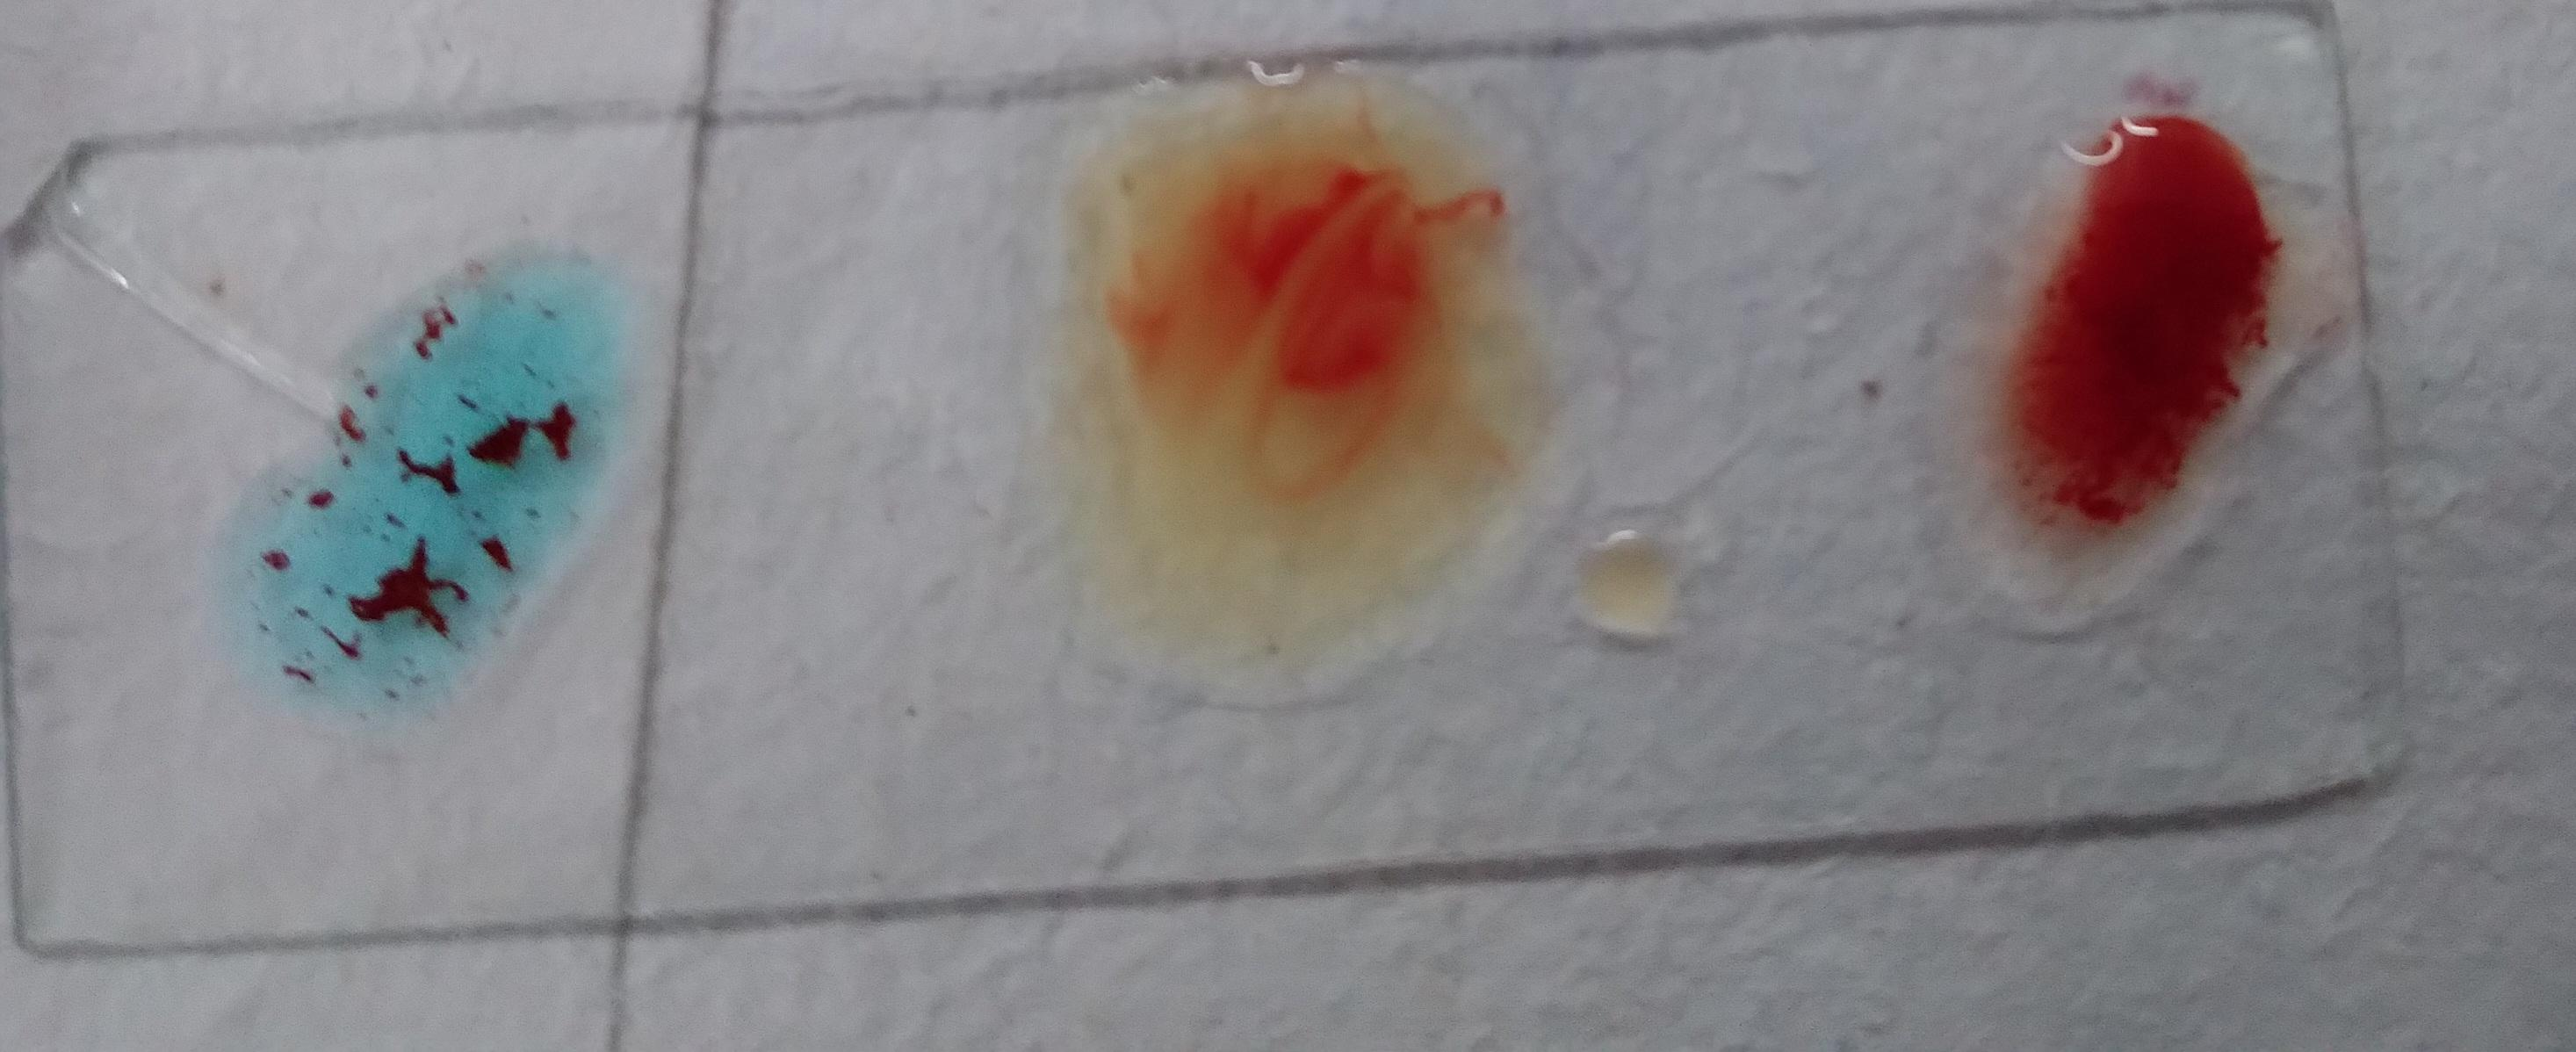A: (258, 258, 629, 717)
D: (1916, 97, 2303, 618)
